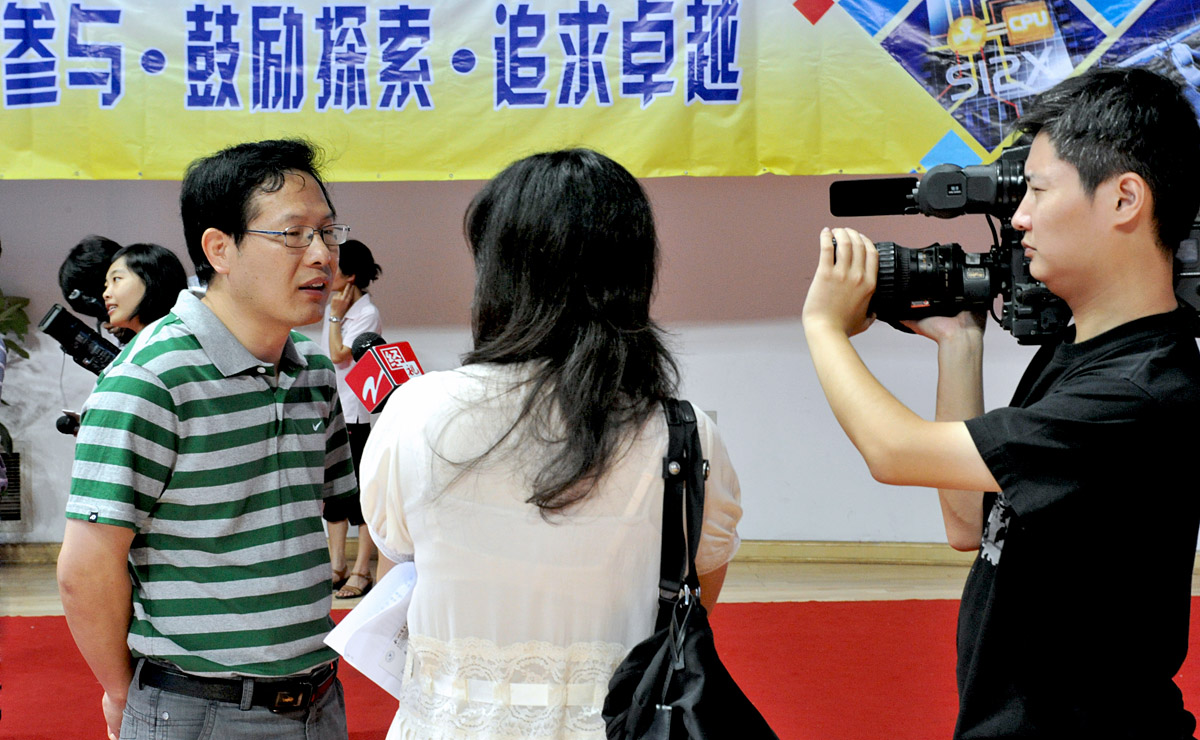noWear: (236, 187, 354, 342), (1007, 130, 1101, 302), (99, 263, 145, 330), (334, 250, 363, 290)
